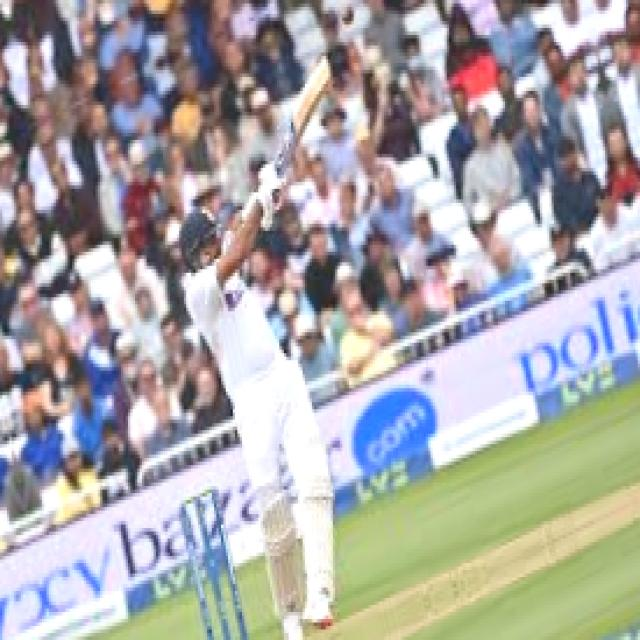toe: (318, 54, 334, 96)
